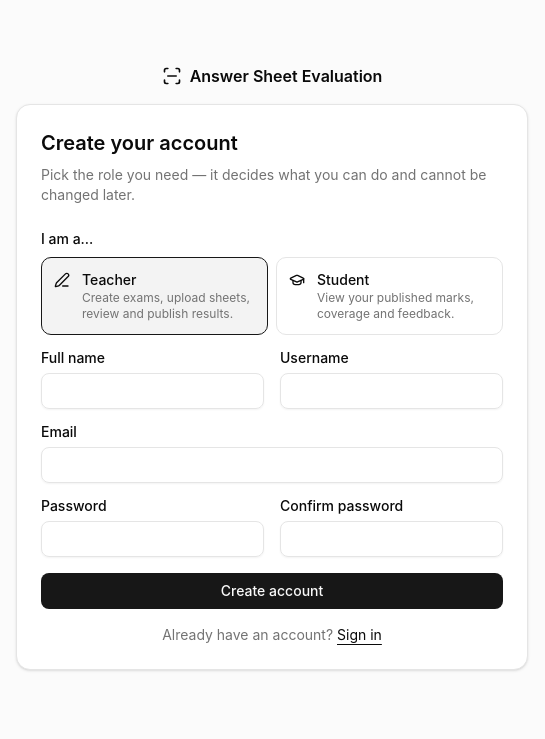
Scenario: Signup › requires a USN for students
Click the radio button labelled "Student View your published marks, coverage and feedback." at (390, 296), box [276,257,503,335]
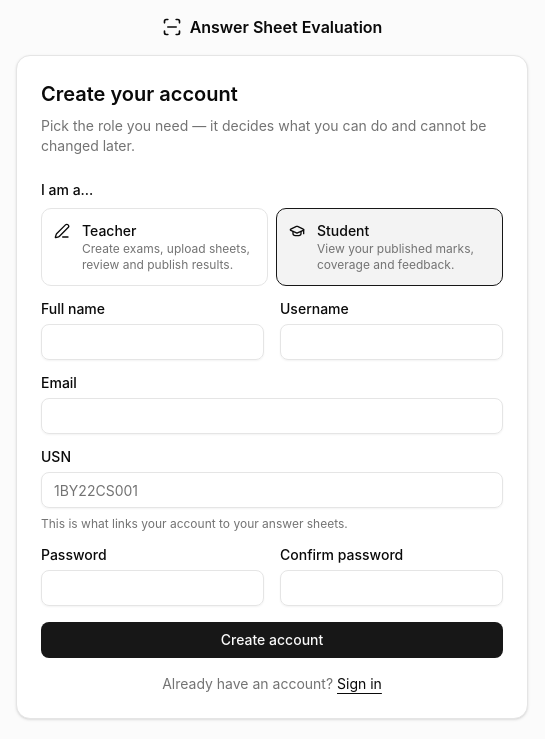
Type "A Deepika" into the field labelled "Full name" at (152, 342), box [41,324,264,360]
Type "deepika" into the field labelled "Username" at (392, 342), box [280,324,503,360]
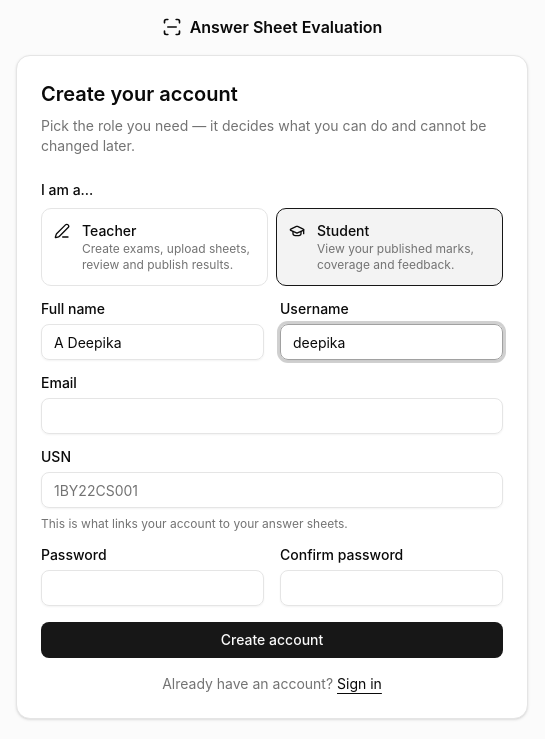
Type "deepika@bmsit.in" into the field labelled "Email" at (272, 416), box [41,398,503,434]
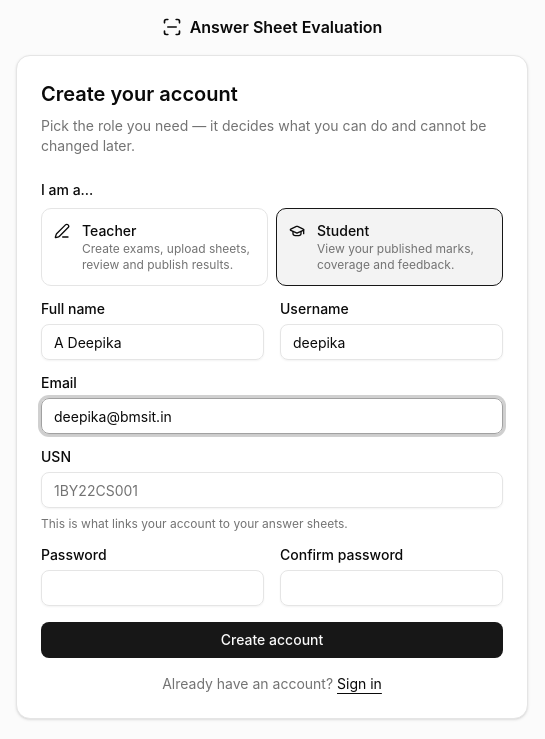
Type "correct-horse" into the password field labelled "Password" at (152, 588), box [41,570,264,606]
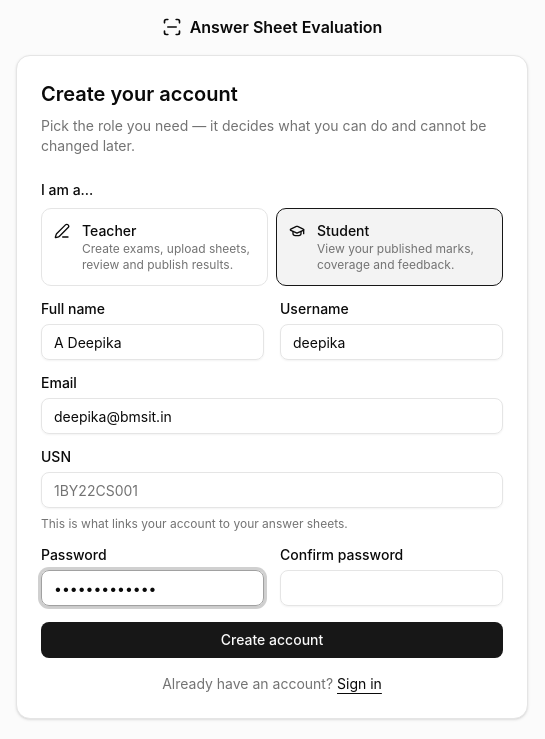
Type "correct-horse" into the password field labelled "Confirm password" at (392, 588), box [280,570,503,606]
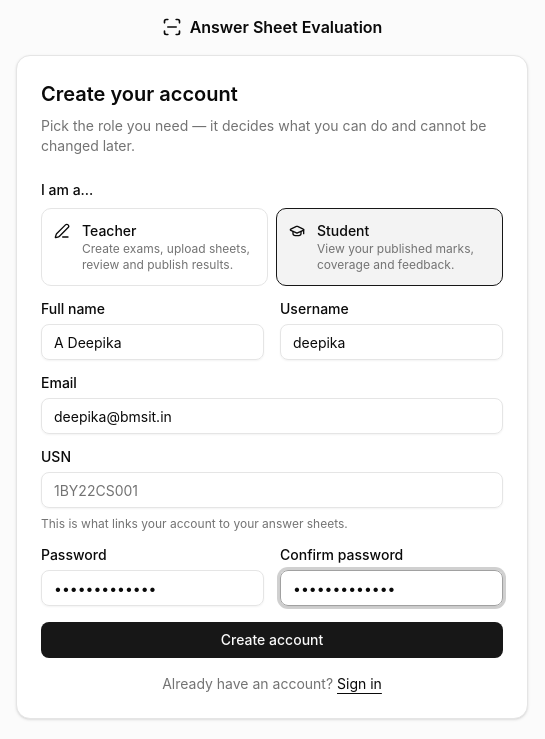
Click the button "Create account" at (272, 640), box [41,622,503,658]
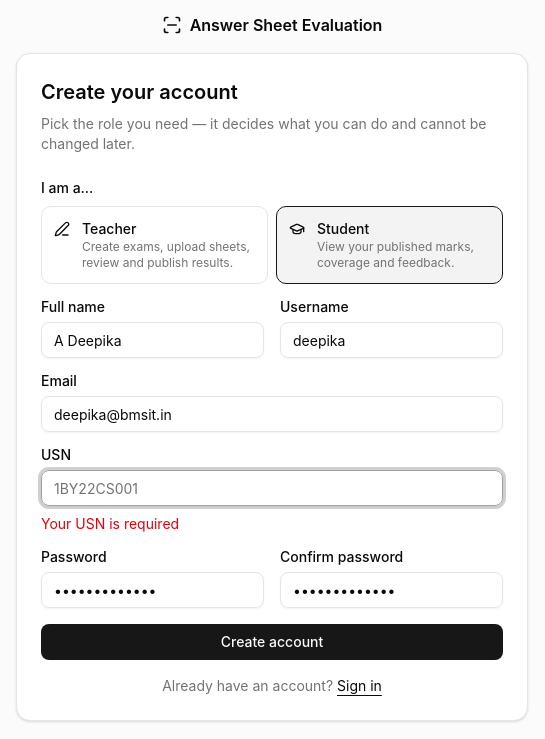
Expected: the text "Your USN is required" is shown, [41,515,179,532]
